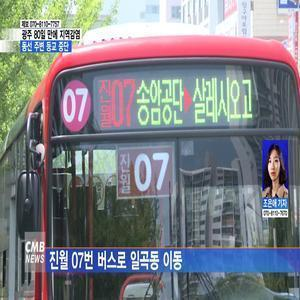07bus: (32, 35, 296, 300)
